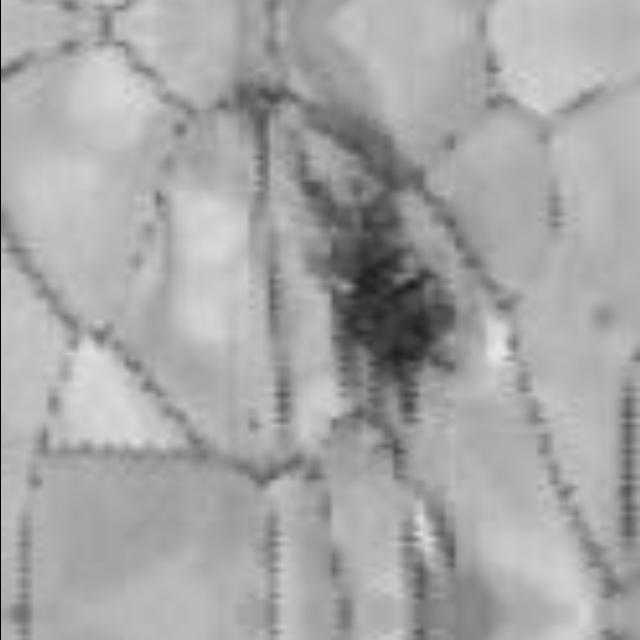good_void: (295, 160, 461, 421)
